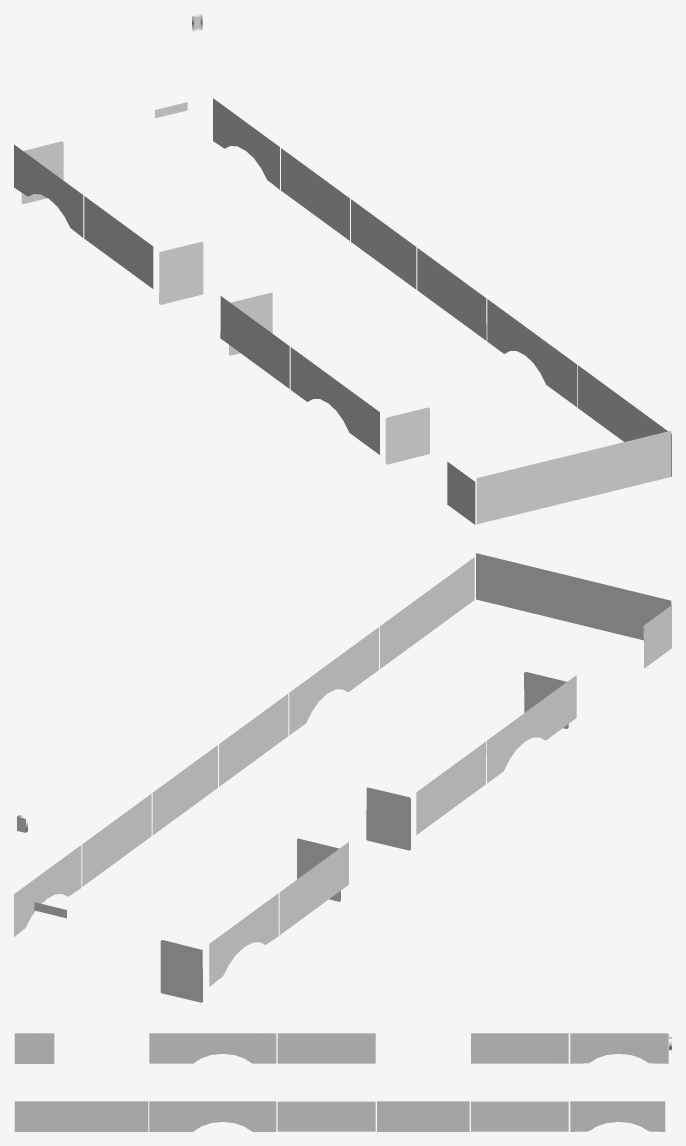
3 views of the same model, one above another, from view 1: azimuth 30°, elevation 25°; view 2: azimuth 150°, elevation 25°; view 3: azimuth 270°, elevation 25° (orthographic). The views are drawn at different scales.
Size of the model in its own units: 2.32 by 1.62 by 9.49.
1 material, 1 textured.
